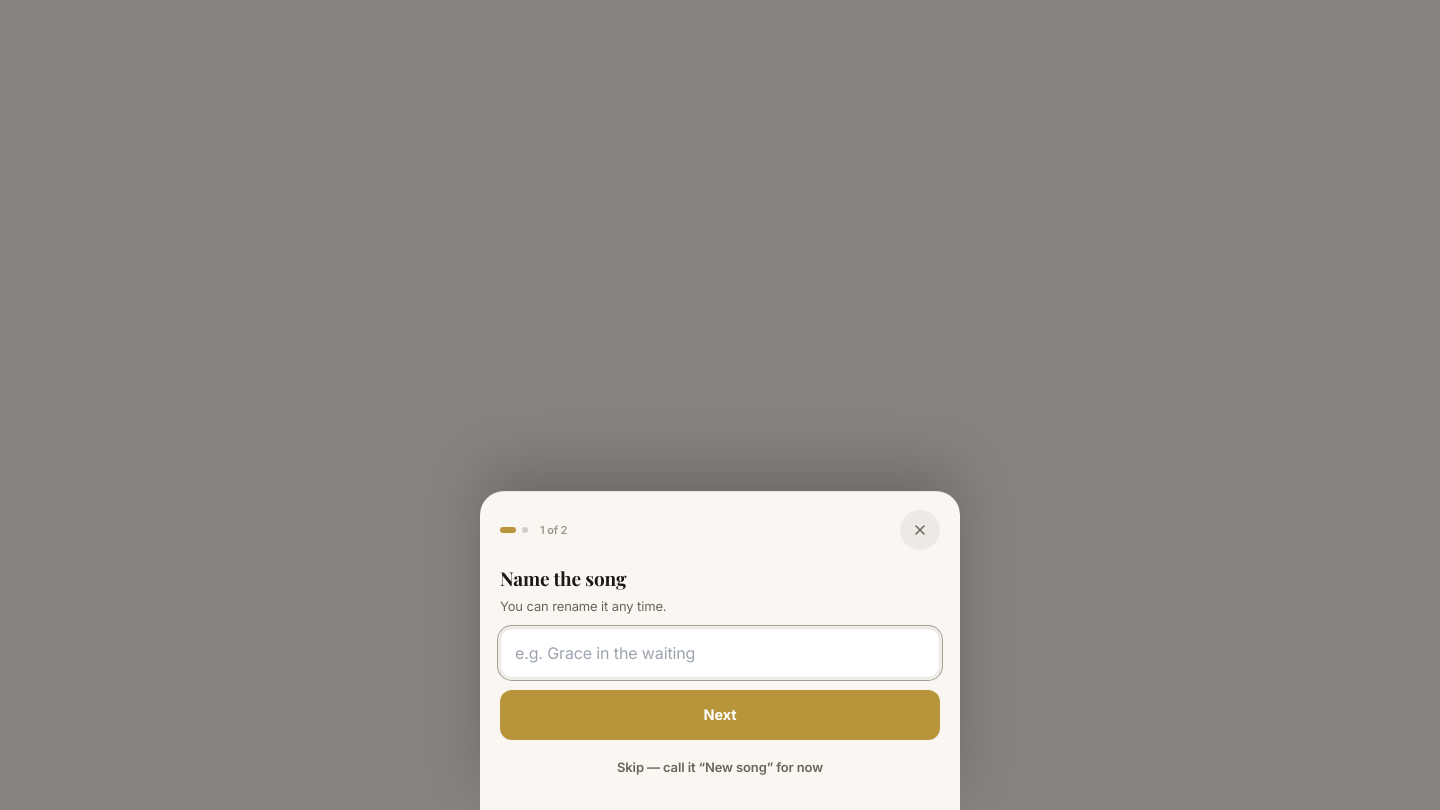
Test case: NewSongRail — starting a song in the rail grammar › name → who is it for? → create carries both
Later steps or results of the test are not shown.
Type "Grace in the Waiting" into the field named "song name". click: (720, 653)
box: [500, 628, 940, 678]
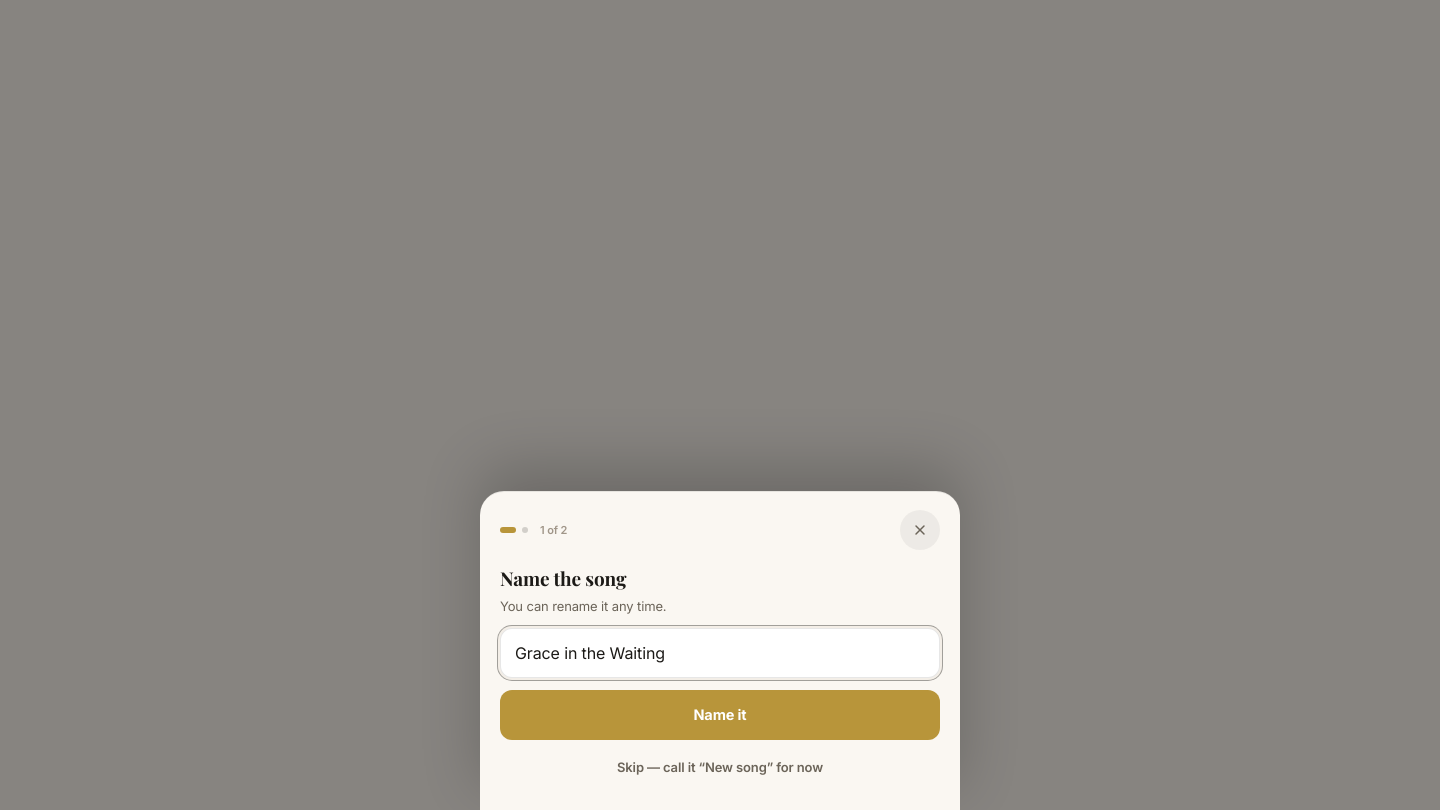
Click the button "Name it". click: (720, 715)
box: [500, 690, 940, 740]
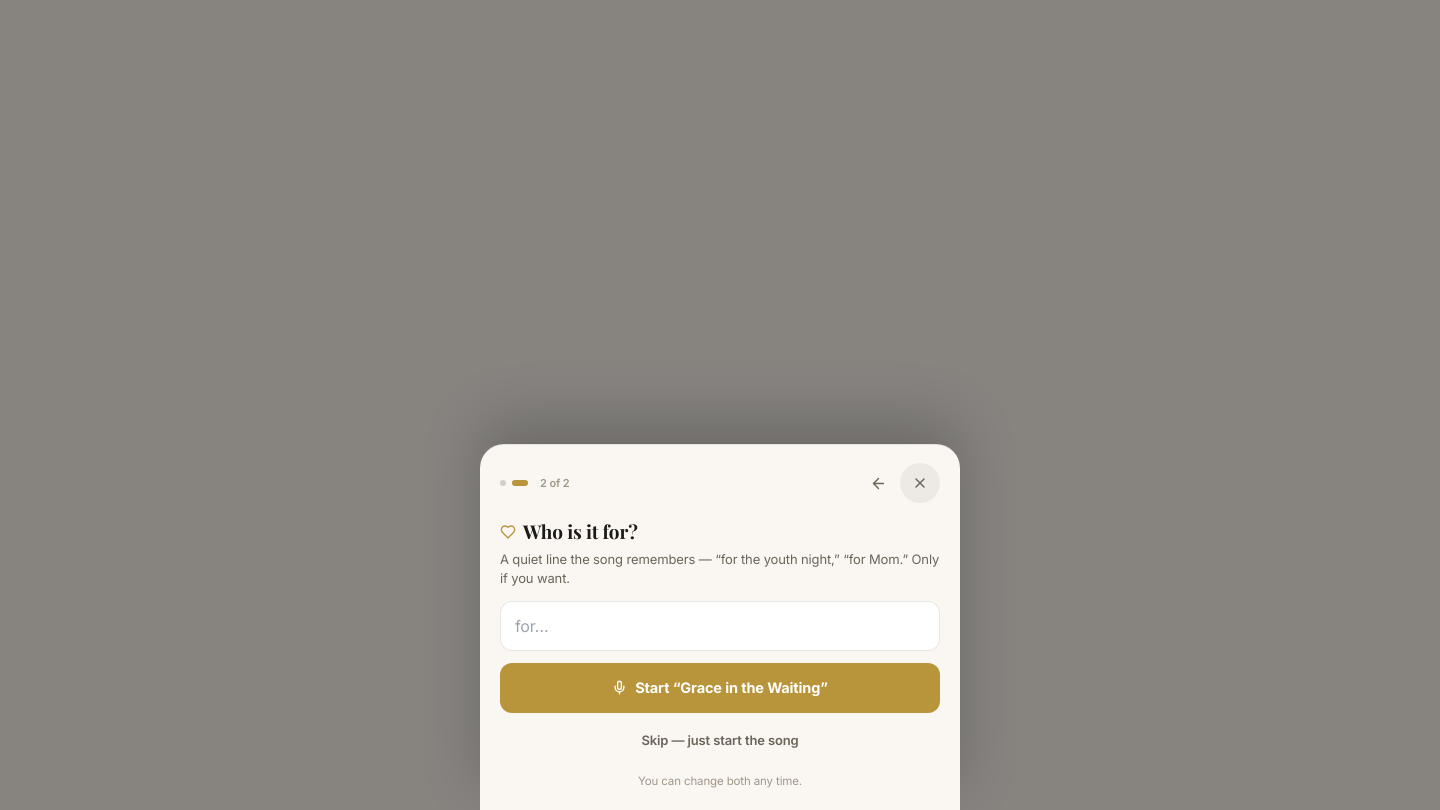
Check: the text "2 of 2" is shown, box [540, 475, 570, 492]
